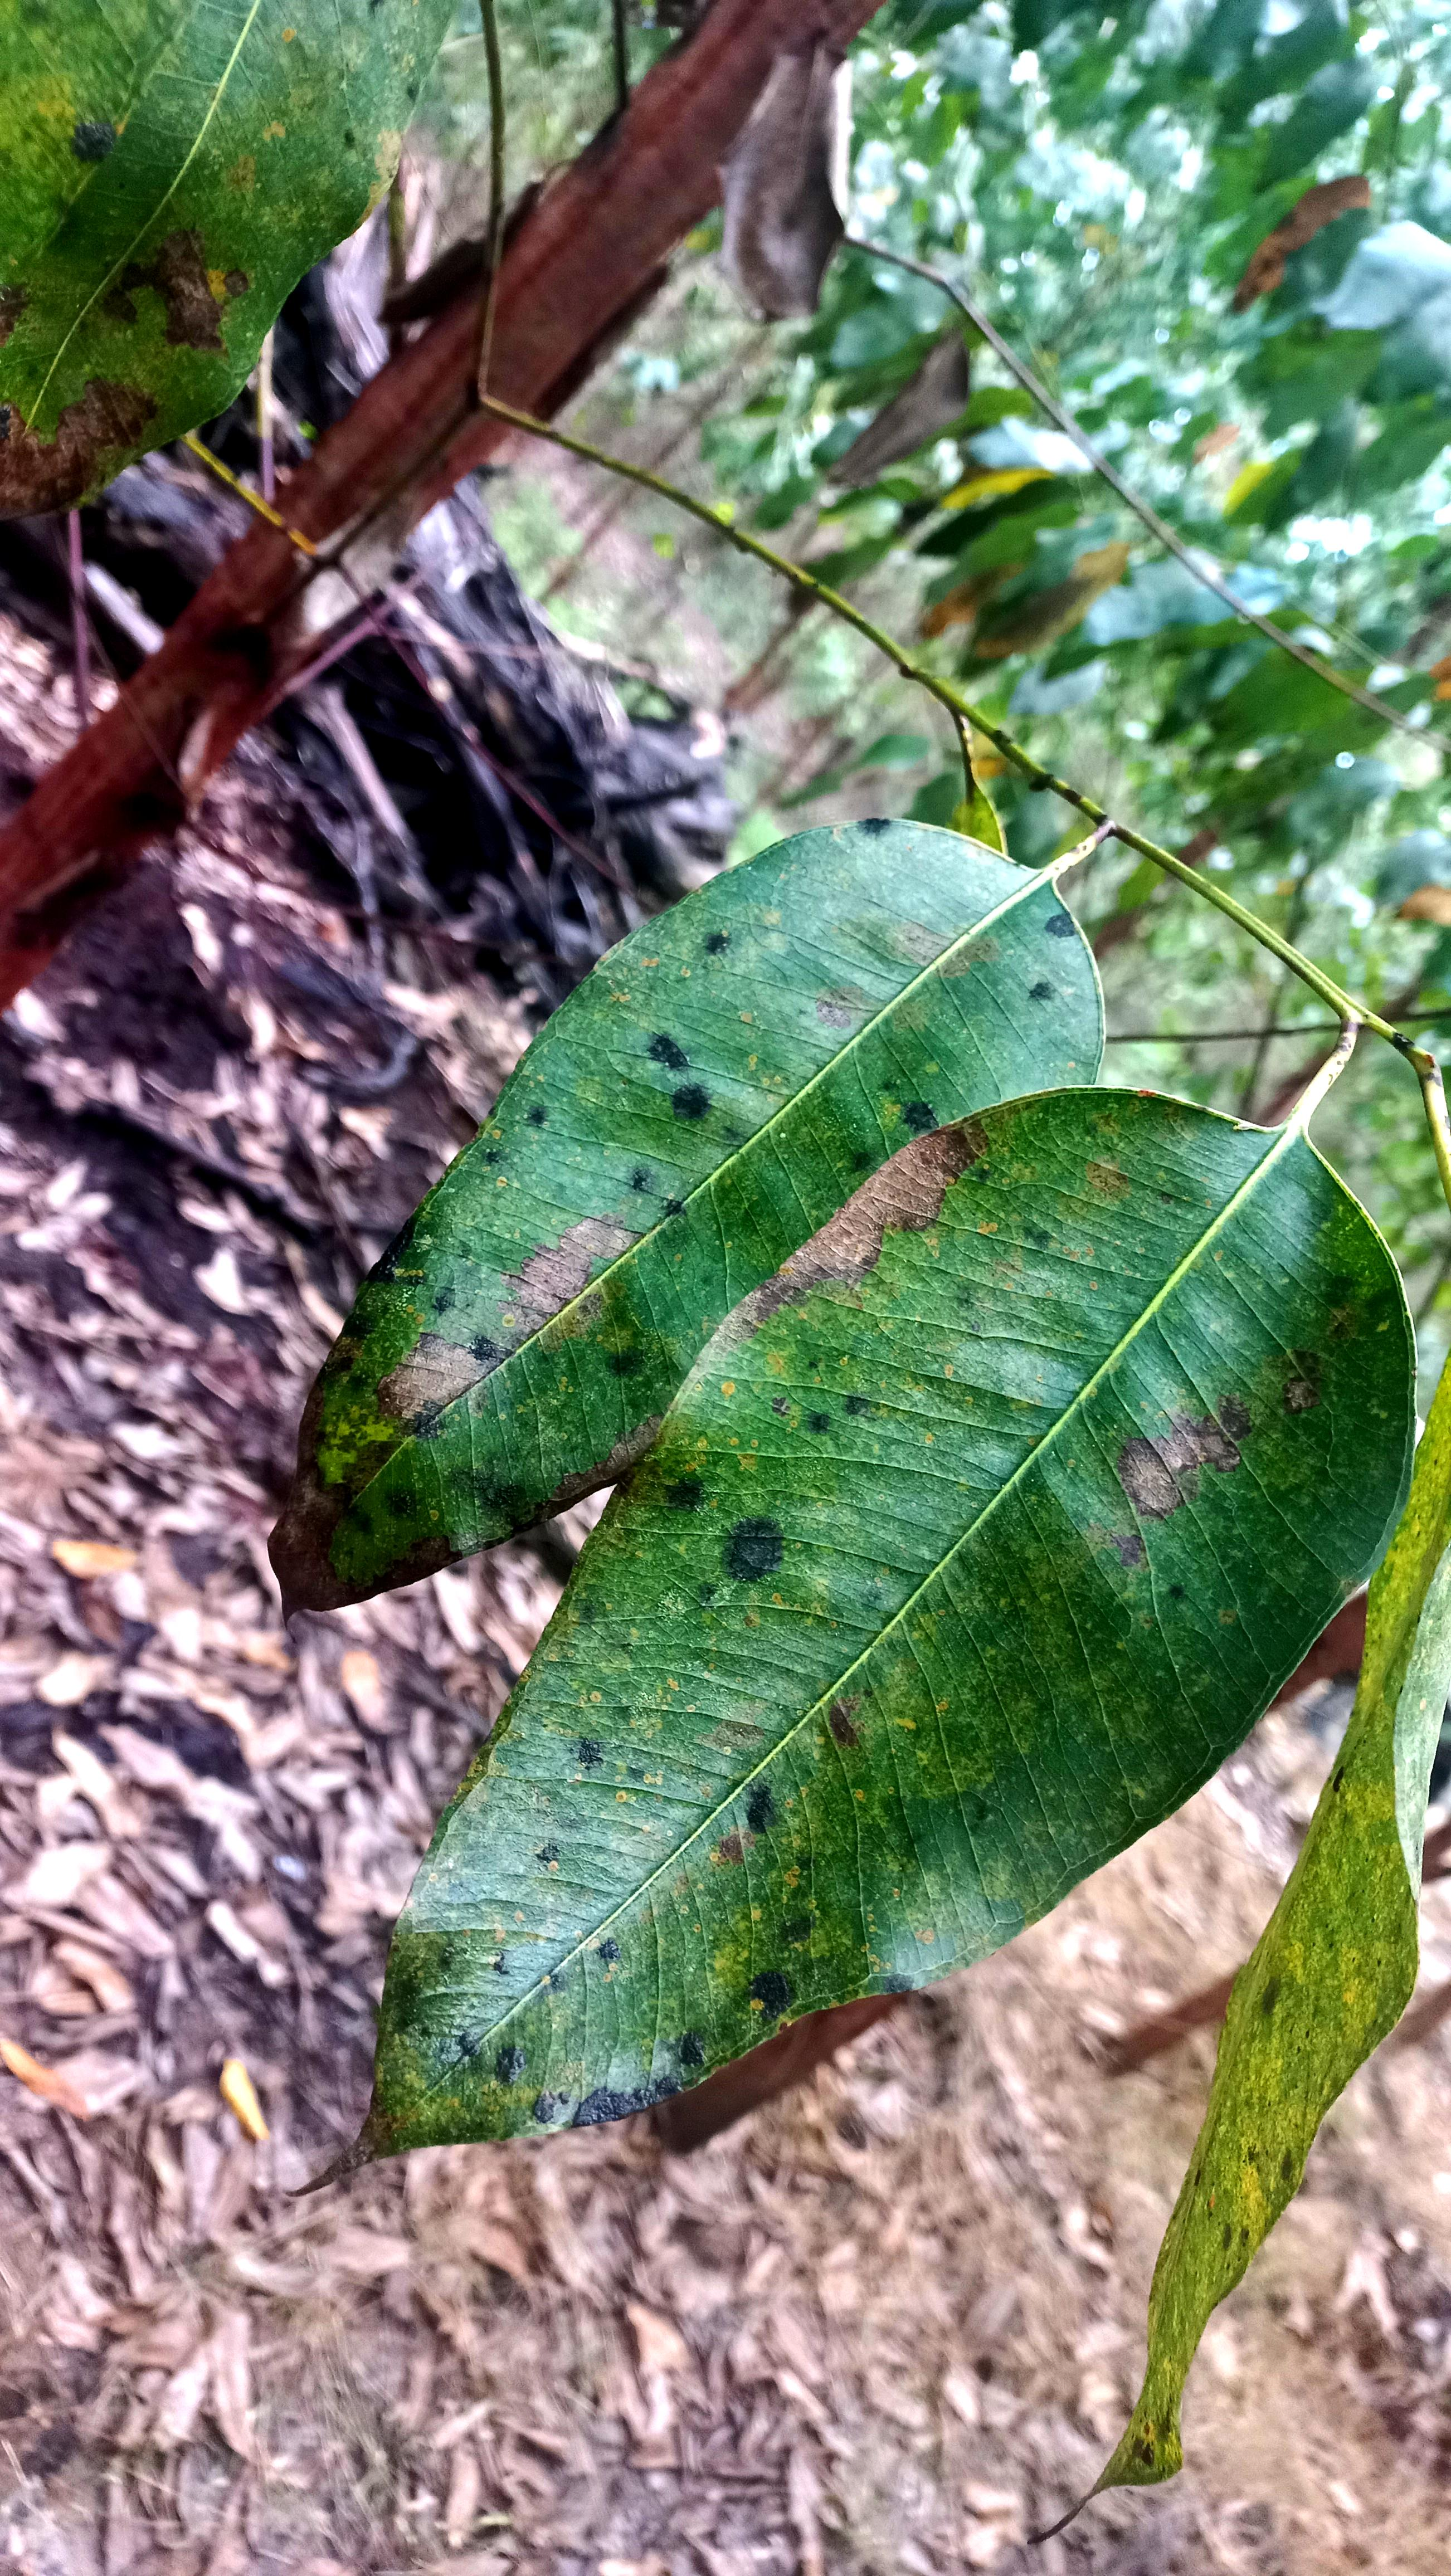Cylindrocladium: (741, 1086, 998, 1339), (1102, 1375, 1253, 1548), (501, 1189, 642, 1364), (375, 1292, 483, 1449)
Embun Jelaga: (342, 1079, 1410, 2180), (253, 832, 1113, 1621)
